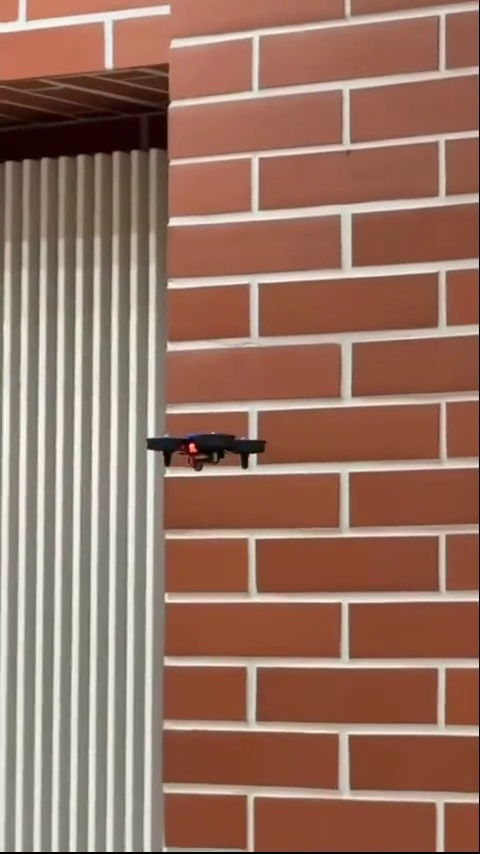drone: (136, 433, 270, 471)
